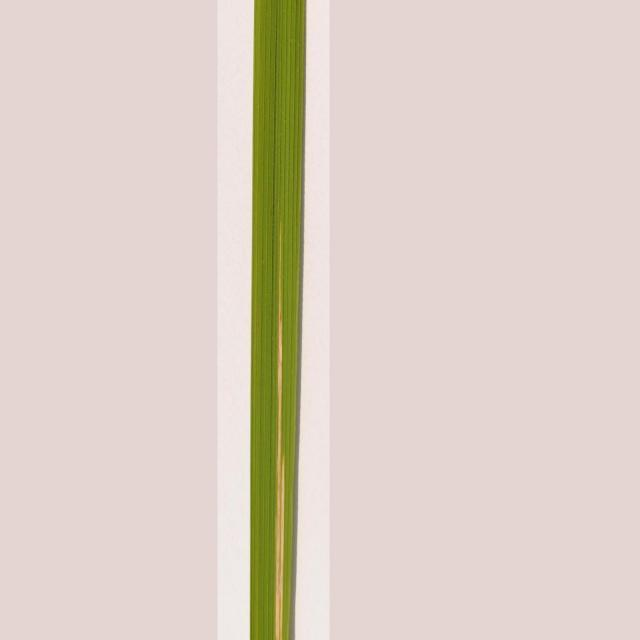leaf blight: (263, 222, 302, 638)
